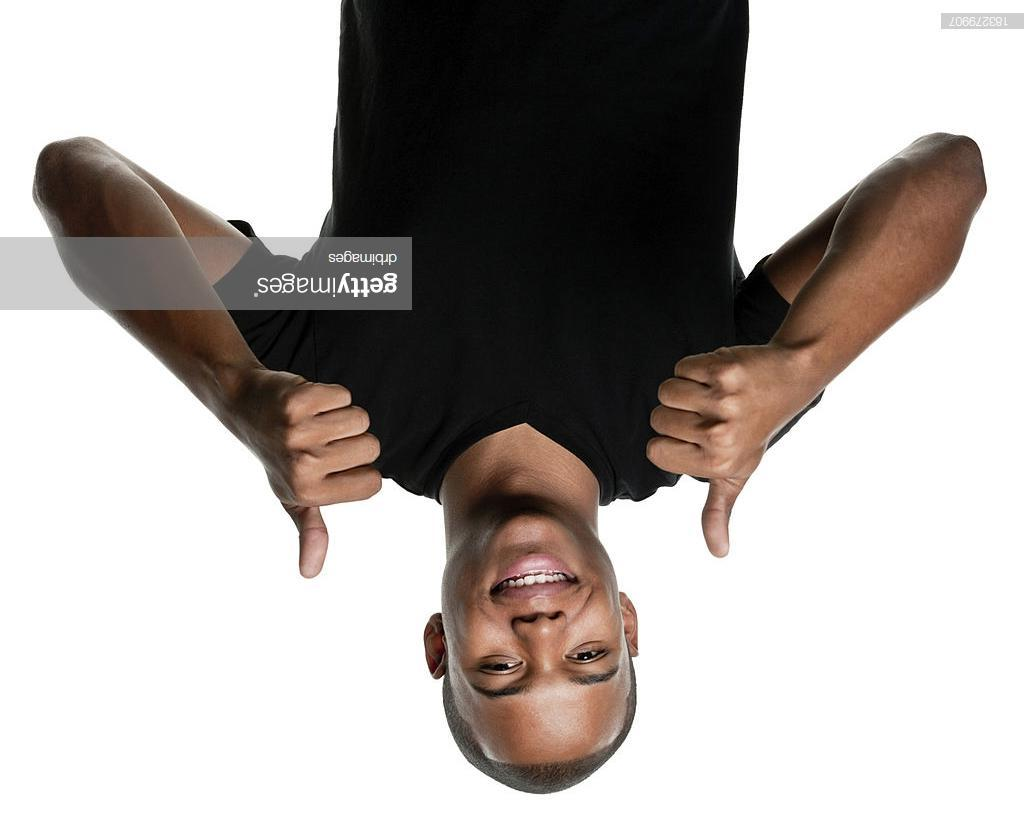thumbsdown: (642, 351, 752, 558), (278, 381, 384, 580)
